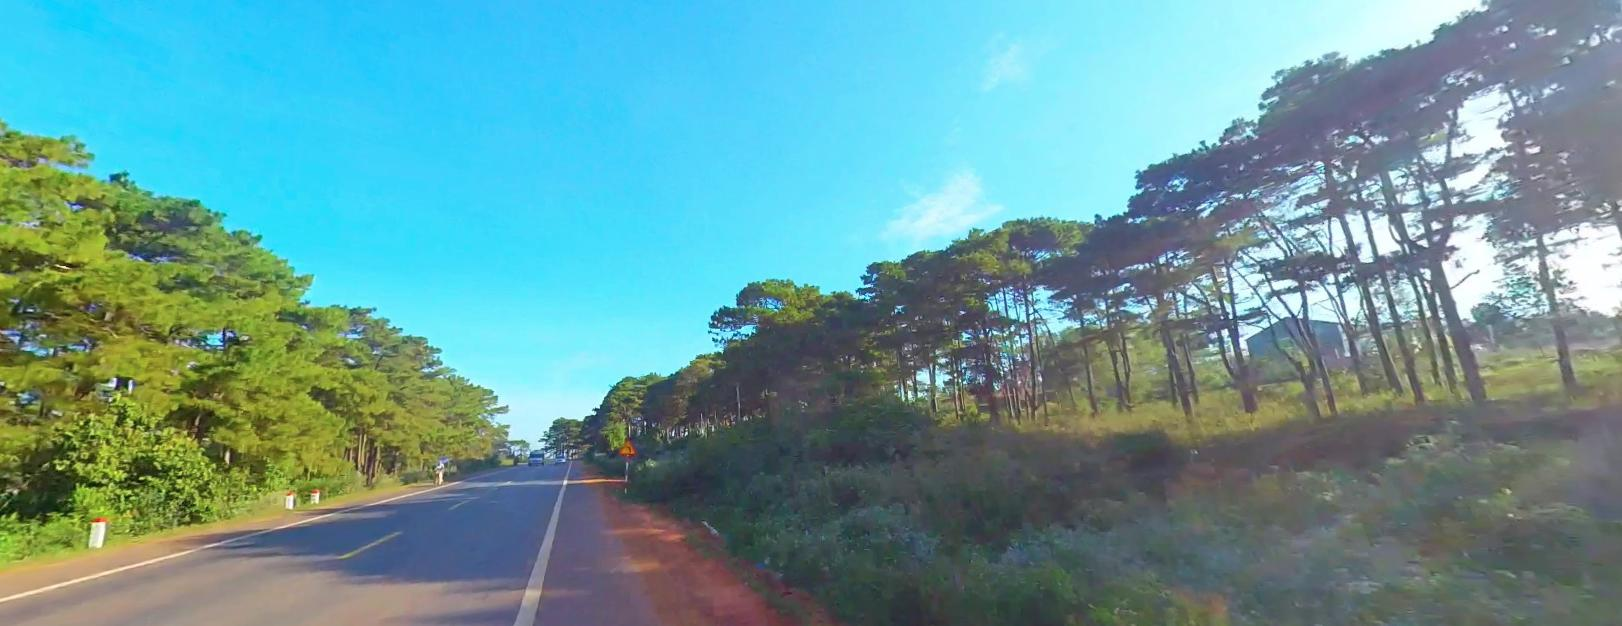Nguy hiem: (618, 439, 635, 453)
